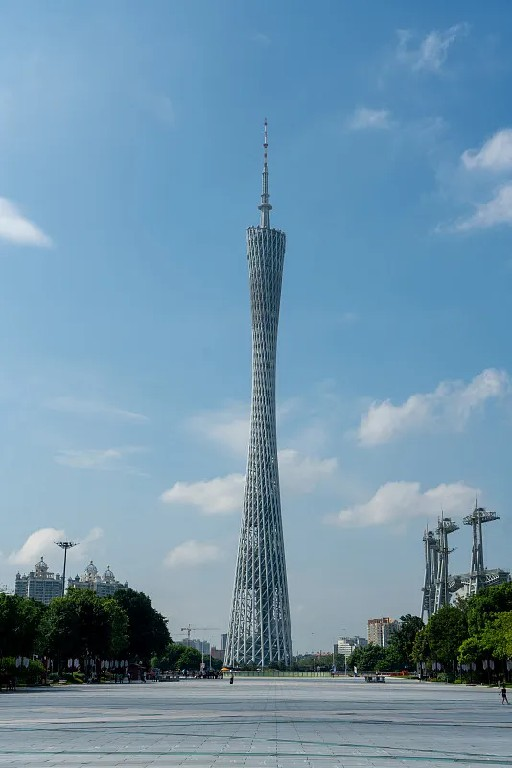Canton: (222, 120, 294, 669)
